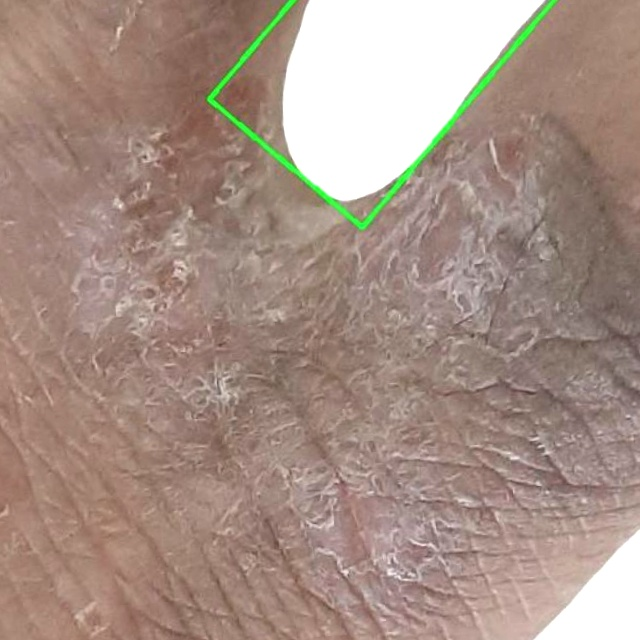Eczema: (209, 0, 553, 227)
